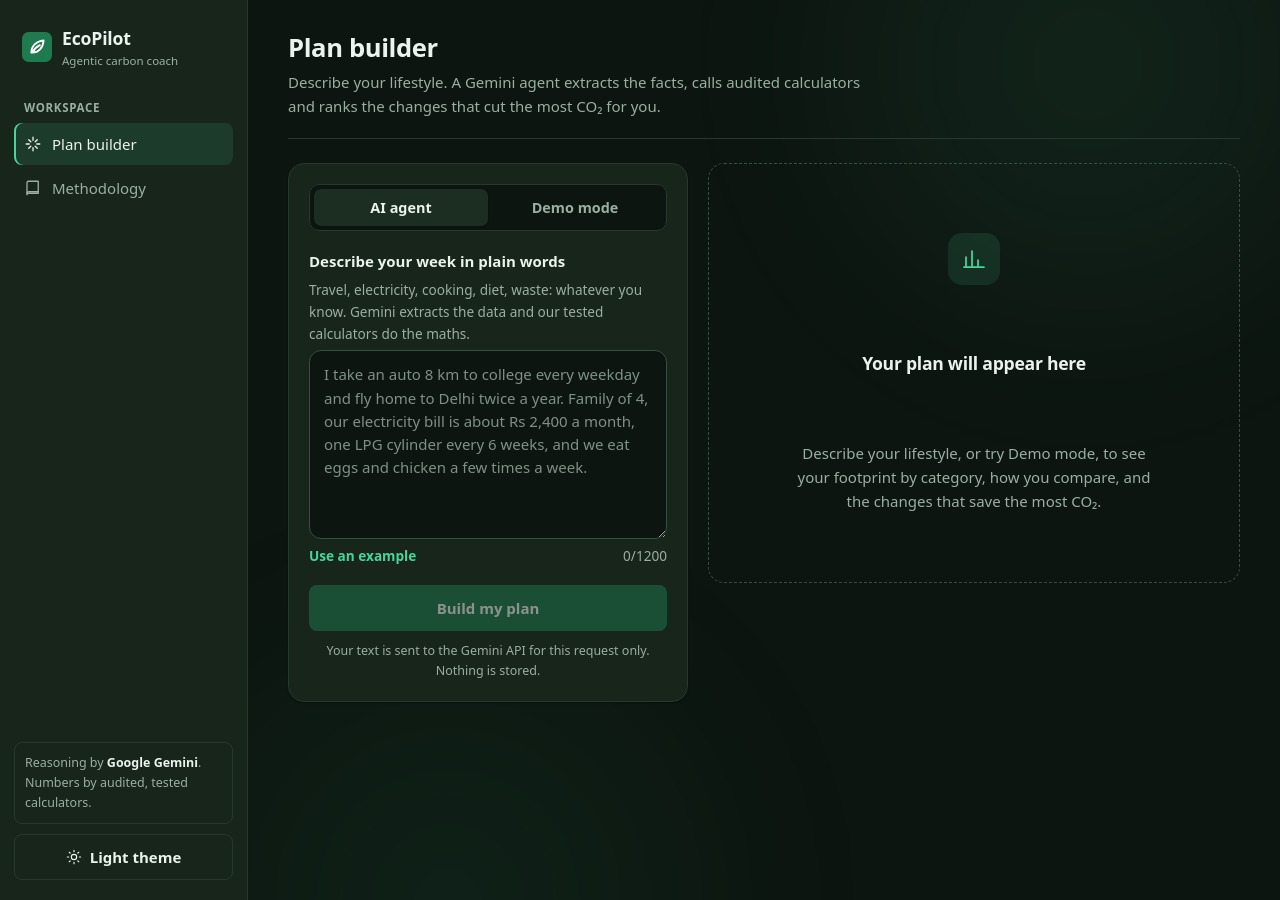
Scenario: App › keeps submit disabled until the description is long enough
expect the button "Build my plan" is disabled: met, box [309, 585, 667, 631]
Type "I cycle to work daily." into the text box labelled "Describe your week in plain words".
click(488, 445); type("I cycle to work daily.")  # box [309, 350, 667, 539]
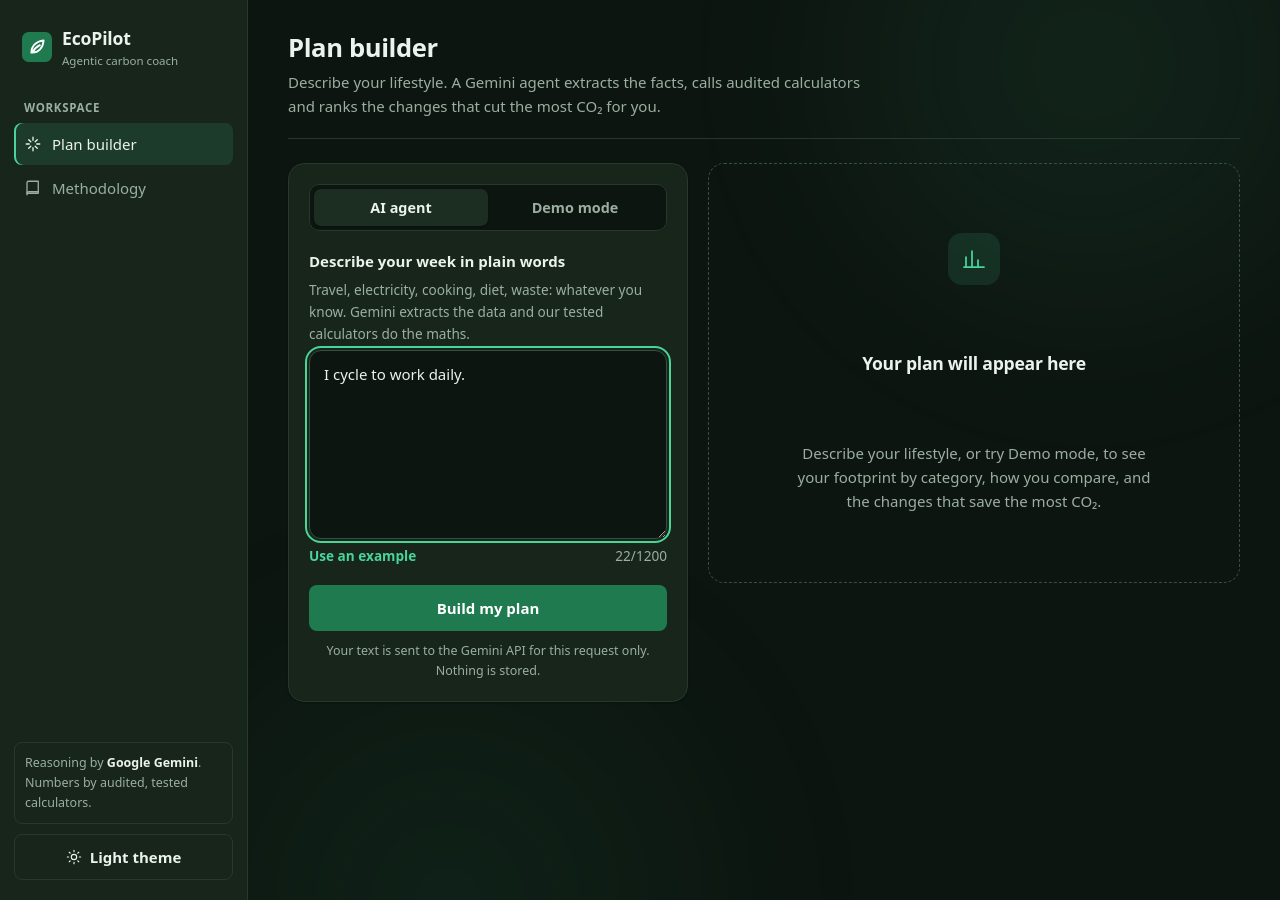
expect the button "Build my plan" is enabled: met, box [309, 585, 667, 631]
